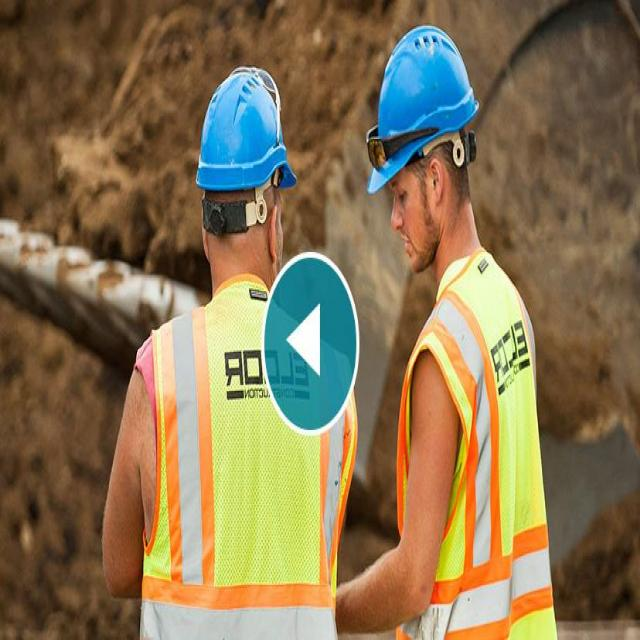Reflective-Jacket: (127, 282, 357, 633), (390, 252, 561, 640)
Safety-Helmet: (362, 22, 480, 200), (192, 59, 298, 204)
